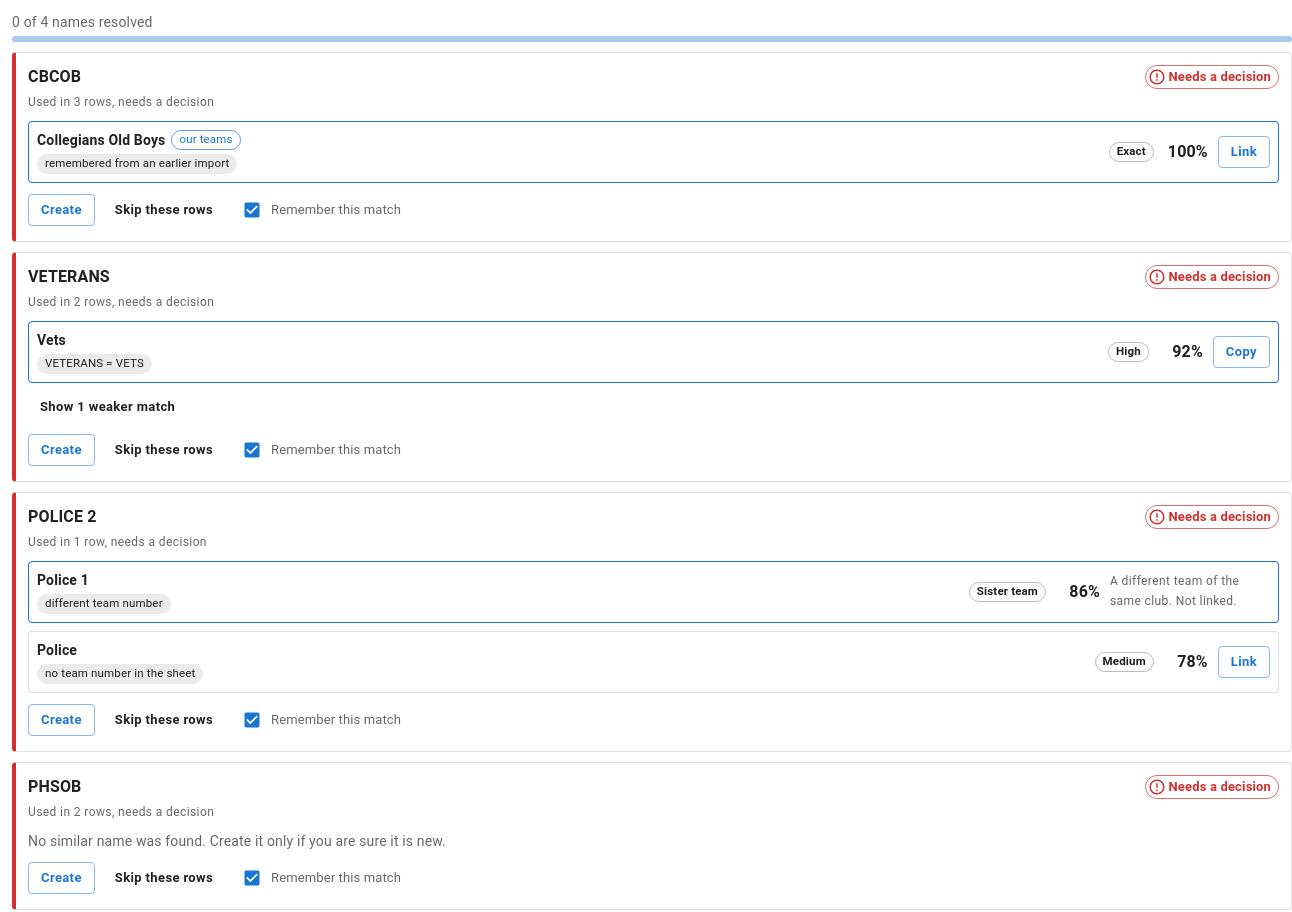
Scenario: ReferenceResolver, schedule candidates › copies a team from an earlier season and says so
This screenshot has width=1292, height=912.
Click the button with aria-label "Copy: Vets" at coordinates (1241, 352), box [1213,336,1270,368]
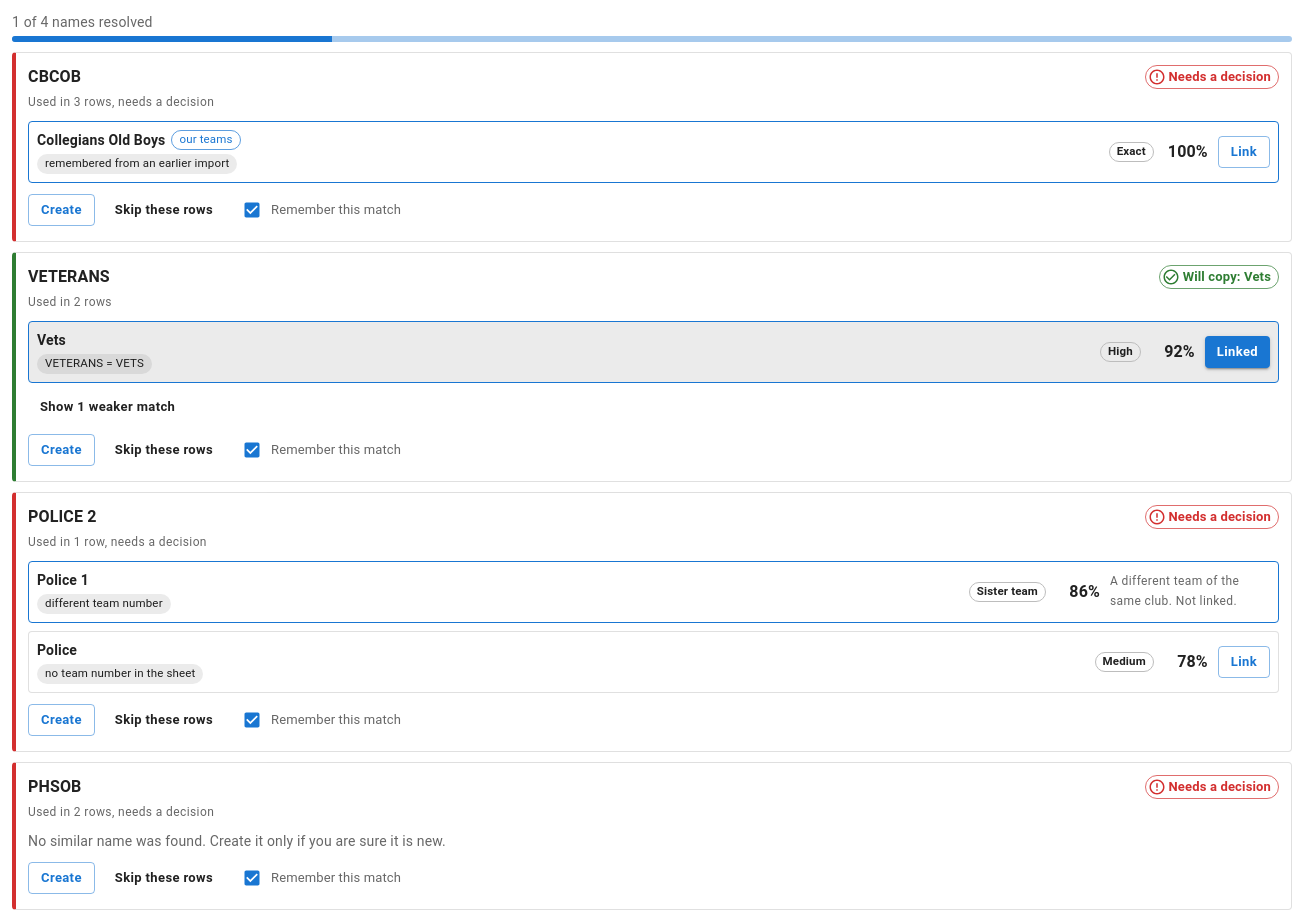
Expected: the element with test id "resolver-card-VETERANS" shows "Will copy: Vets", [1183,269,1271,284]
